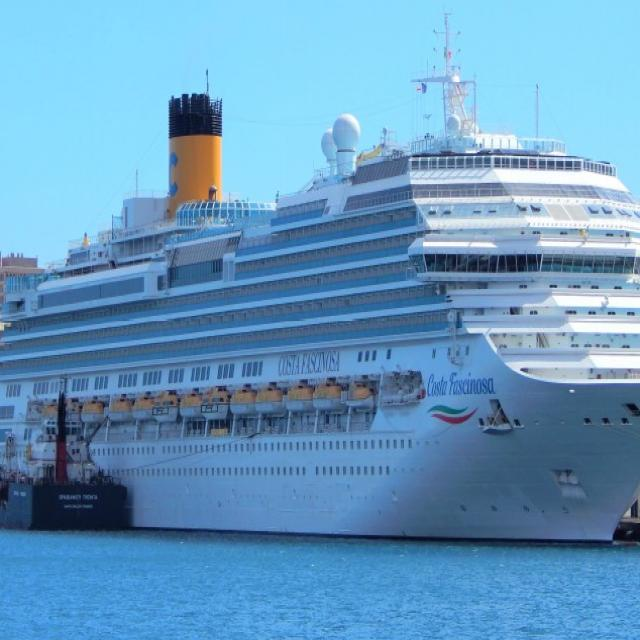cruises: (1, 17, 640, 562)
